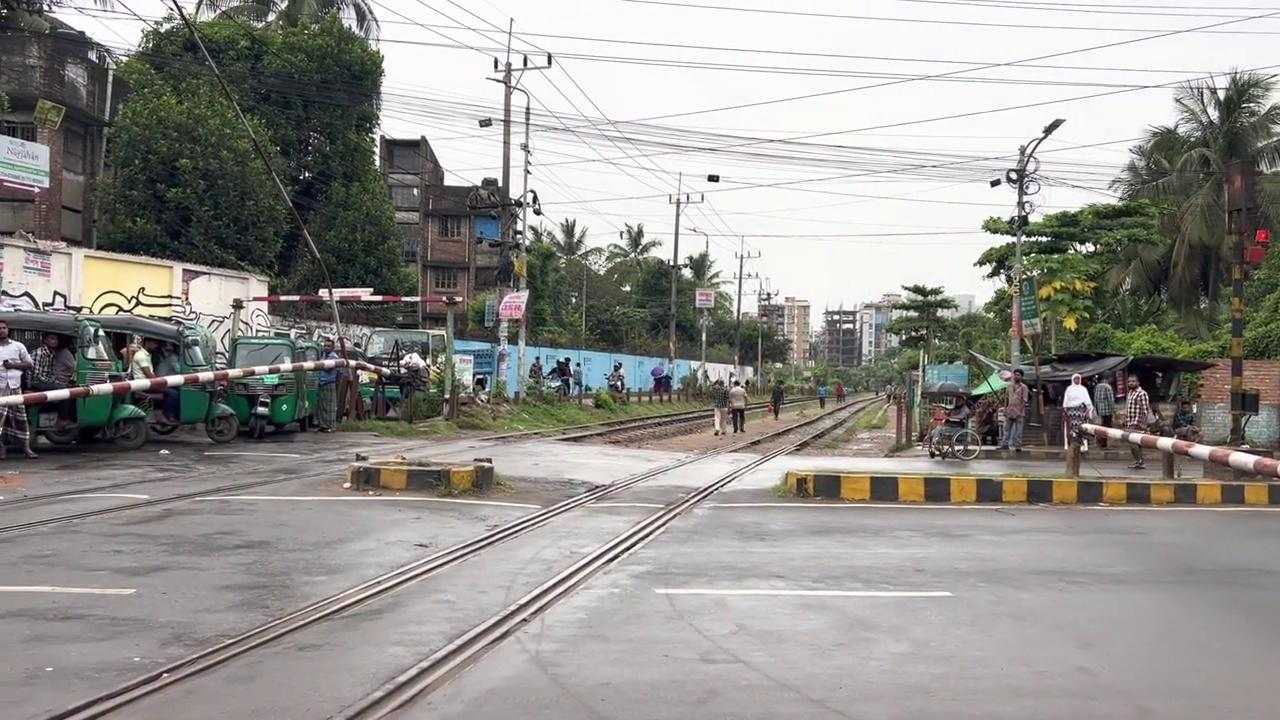Car: (783, 468, 1279, 507), (343, 452, 494, 495)
Fence: (0, 320, 38, 459)
Garbage: (483, 18, 552, 402), (990, 116, 1066, 428), (666, 170, 719, 400)
Motorcycle: (208, 512, 670, 720)
Railroad-crossing: (86, 1, 415, 328)
Rickshaw: (0, 291, 238, 449), (225, 288, 462, 423)
